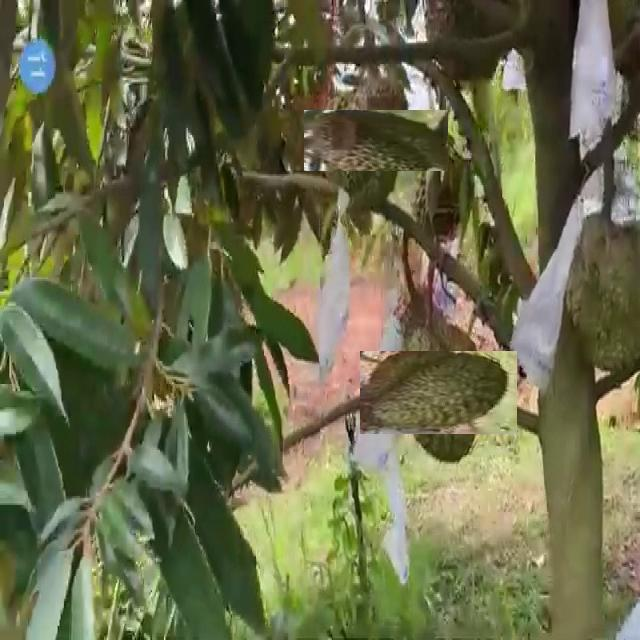durian: (378, 332, 499, 453), (325, 89, 428, 192)
